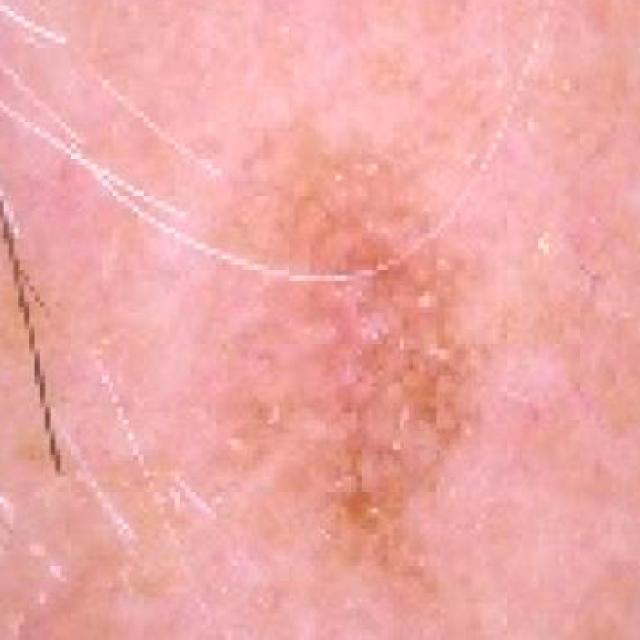AKIEC: (142, 103, 564, 544)
